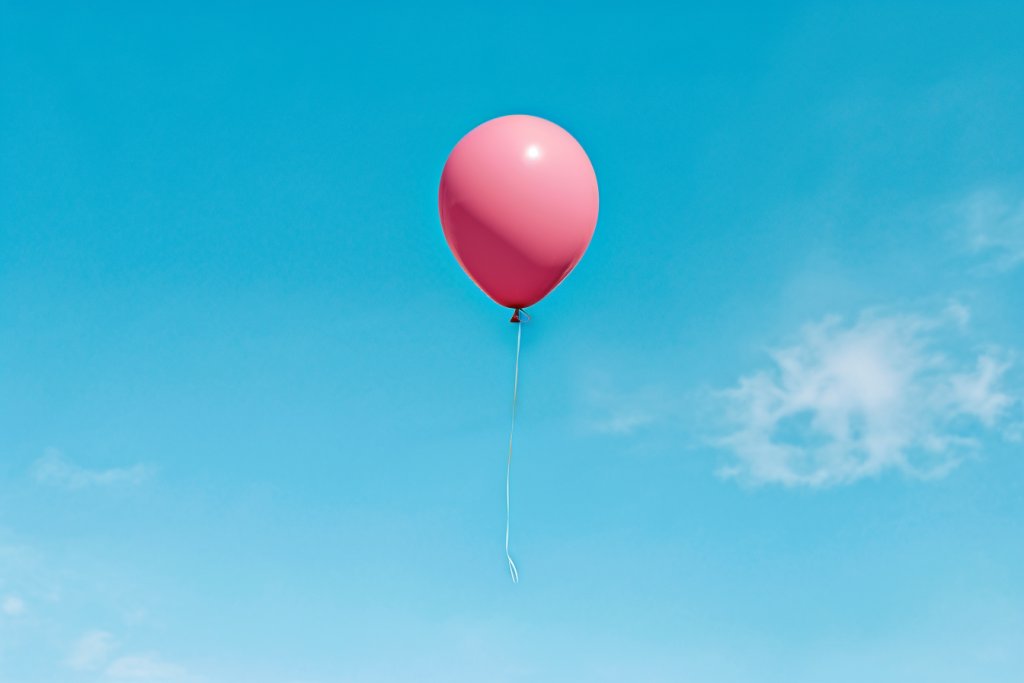balloon: (438, 115, 598, 321)
